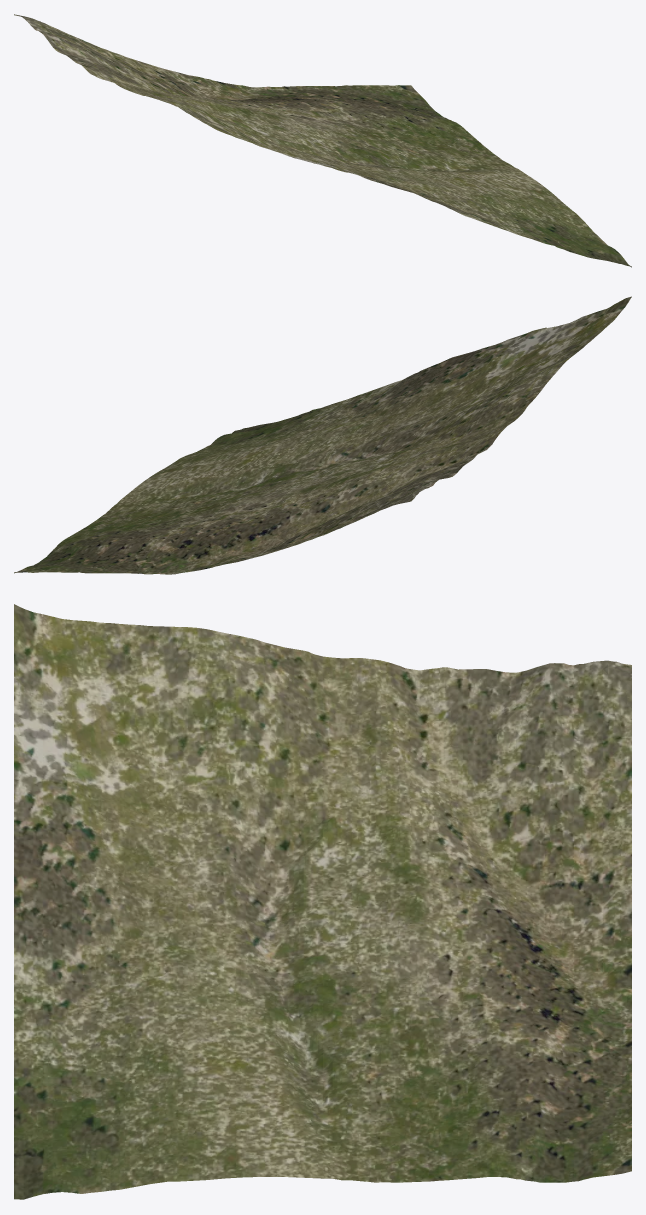
The picture shows the model from 3 angles, top to bottom: view 1: azimuth 30°, elevation 25°; view 2: azimuth 150°, elevation 25°; view 3: azimuth 270°, elevation 25°; orthographic projection. The views are drawn at different scales.
Size of the model in its own units: 500 by 280 by 481.
1 material, 1 textured.
